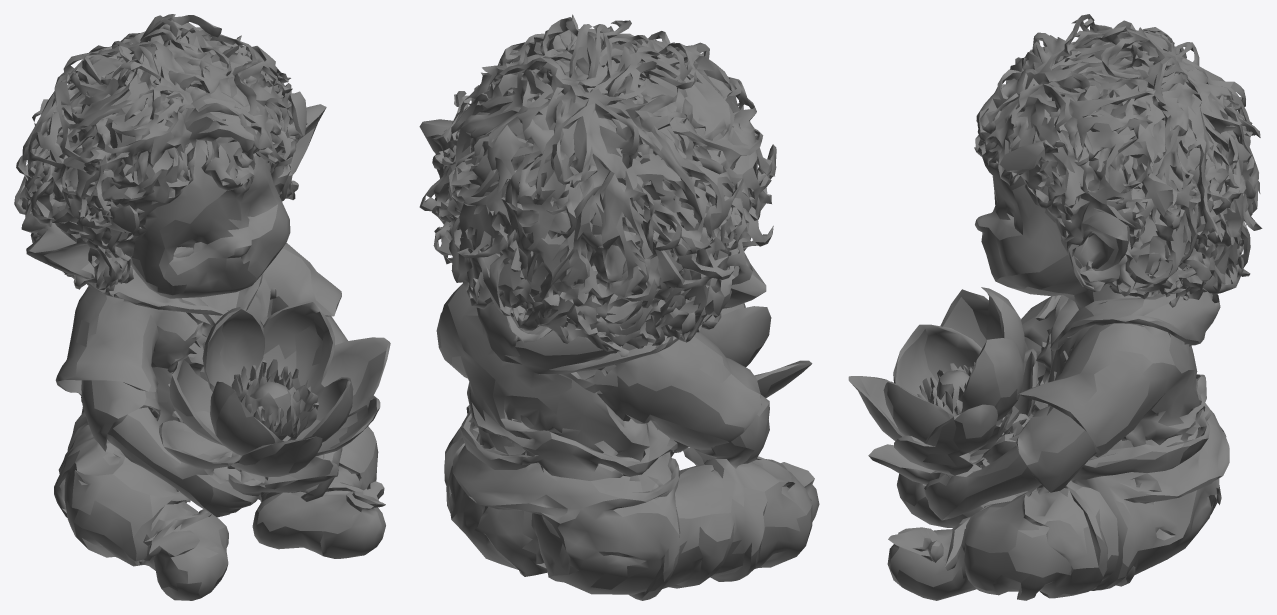
The model's file is completion_sprite_2.glb.
The picture shows the model from 3 angles, left to right: view 1: azimuth 30°, elevation 25°; view 2: azimuth 150°, elevation 25°; view 3: azimuth 270°, elevation 25°; orthographic projection. The views are drawn at different scales.
Visible parts, largest first — view 1: geometry_0; view 2: geometry_0; view 3: geometry_0.
Boxes of the visible parts, bbox=[...] form: geometry_0: bbox=[14, 14, 390, 600]; geometry_0: bbox=[419, 14, 819, 600]; geometry_0: bbox=[848, 14, 1262, 600].
Size of the model in its own units: 0.6337 by 0.9924 by 0.6988.
1 material, 1 textured.
